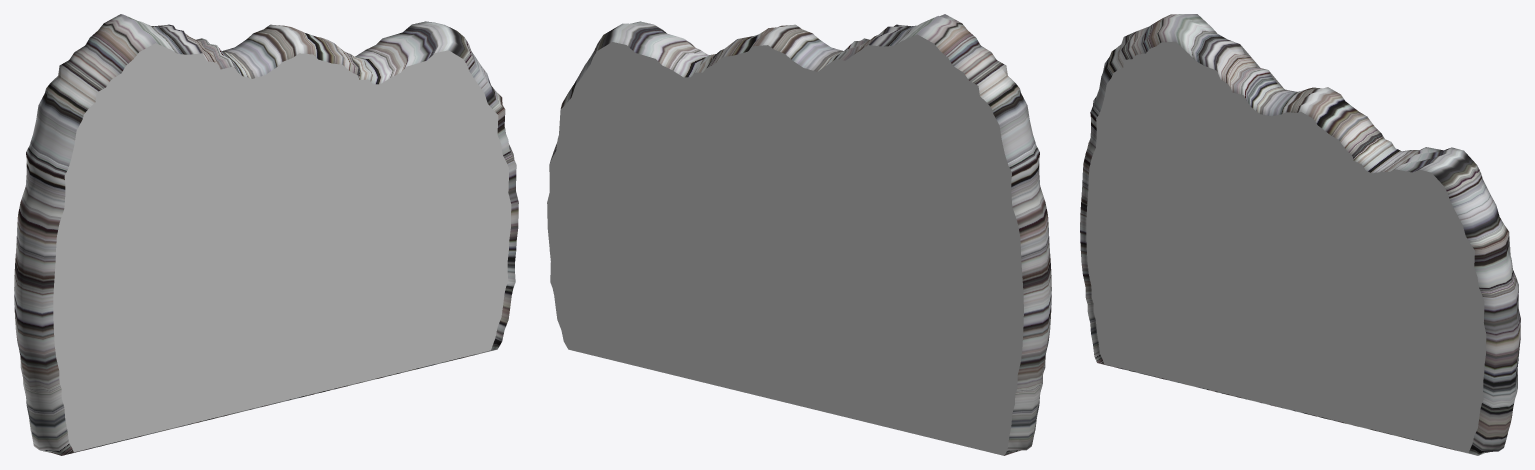
File: Stèle_Eclatée1_Tarn.fbx
The picture shows the model from 3 angles, left to right: view 1: azimuth 30°, elevation 25°; view 2: azimuth 150°, elevation 25°; view 3: azimuth 330°, elevation 25°; orthographic projection. The views are drawn at different scales.
Visible parts, largest first — view 1: Stèle_Eclatée1_Tarn; view 2: Stèle_Eclatée1_Tarn; view 3: Stèle_Eclatée1_Tarn.
Boxes of the visible parts, x1=… form: Stèle_Eclatée1_Tarn: x1=14, y1=14, x2=518, y2=455; Stèle_Eclatée1_Tarn: x1=547, y1=14, x2=1051, y2=455; Stèle_Eclatée1_Tarn: x1=1080, y1=14, x2=1520, y2=455.
Size of the model in its own units: 95 by 10 by 75.
